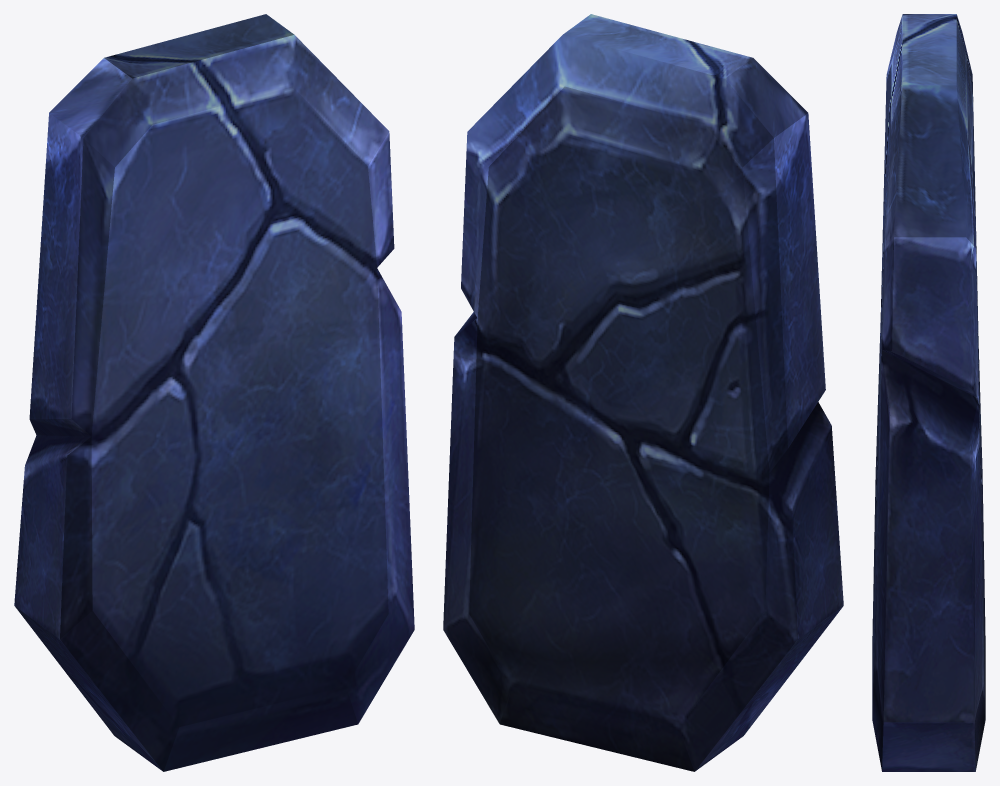
File: Mana Stone.fbx
3 renders of one model, left to right at view 1: azimuth 30°, elevation 25°; view 2: azimuth 150°, elevation 25°; view 3: azimuth 270°, elevation 25°, orthographic. The views are drawn at different scales.
Visible parts, largest first — view 1: D_Manastone; view 2: D_Manastone; view 3: D_Manastone.
Part boxes in pixels (x1,y1,x2,y2): D_Manastone: (14, 14, 414, 771); D_Manastone: (443, 14, 843, 771); D_Manastone: (872, 14, 985, 771).
Bounding box in the file's own units: 7.62 × 14.3 × 2.22.
1 material, 1 textured.
